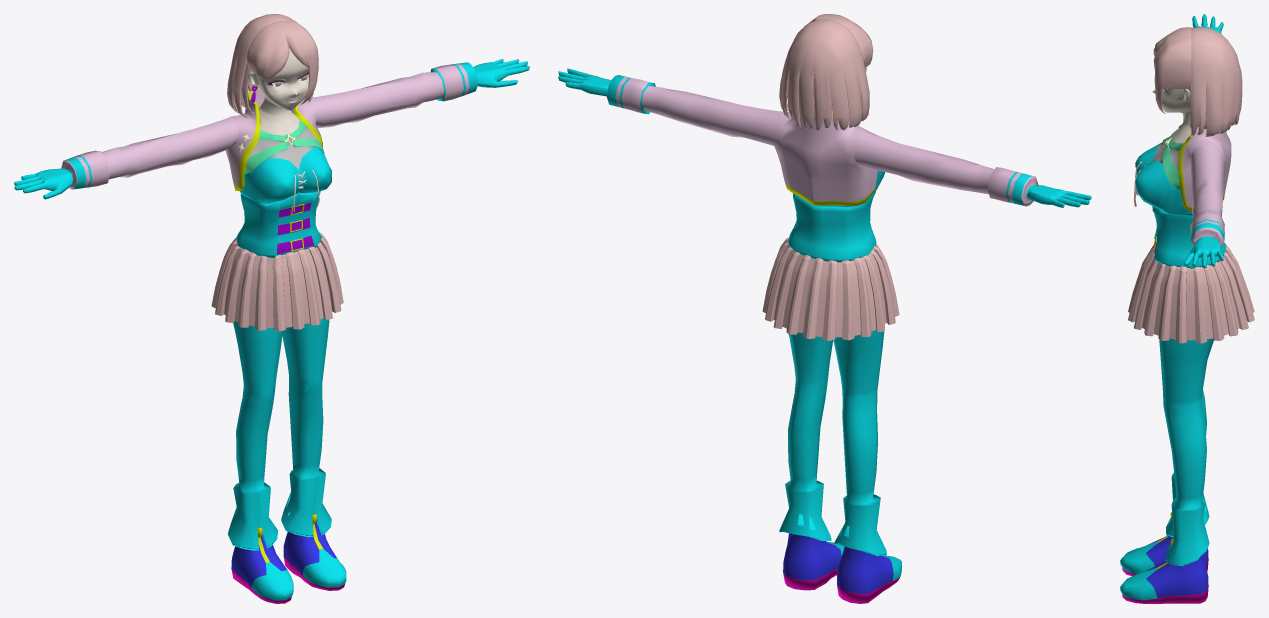
File: TEST_BELA2 3.fbx
3 views of the same model, side by side, from view 1: azimuth 30°, elevation 25°; view 2: azimuth 150°, elevation 25°; view 3: azimuth 270°, elevation 25° (orthographic). The views are drawn at different scales.
Parts seen in each view (by area): view 1: polySurface9, skirt, polySurface4, polySurface2, forelock, polySurface10, face6, polySurface8, polySurface6, hair3; view 2: polySurface9, skirt, hair3, polySurface4, polySurface2, polySurface8, polySurface6, forelock; view 3: polySurface9, skirt, hair3, polySurface2, forelock, polySurface10, polySurface6, face6, polySurface4.
Part boxes in pixels (<box>): polySurface9: <box>225,87,346,603</box>; skirt: <box>211,232,343,331</box>; polySurface4: <box>14,139,165,199</box>; polySurface2: <box>378,59,529,112</box>; forelock: <box>246,20,318,105</box>; polySurface10: <box>240,146,331,203</box>; face6: <box>248,48,308,135</box>; polySurface8: <box>154,116,238,167</box>; polySurface6: <box>310,84,388,127</box>; hair3: <box>227,14,313,119</box>; polySurface9: <box>773,112,901,603</box>; skirt: <box>762,237,899,340</box>; hair3: <box>779,19,869,131</box>; polySurface4: <box>930,153,1091,207</box>; polySurface2: <box>558,68,707,128</box>; polySurface8: <box>854,131,938,185</box>; polySurface6: <box>698,97,782,145</box>; forelock: <box>804,14,873,66</box>; polySurface9: <box>1120,124,1231,603</box>; skirt: <box>1128,242,1254,343</box>; hair3: <box>1190,27,1242,136</box>; polySurface2: <box>1183,183,1224,268</box>; forelock: <box>1153,27,1191,113</box>; polySurface10: <box>1135,142,1192,212</box>; polySurface6: <box>1190,143,1224,199</box>; face6: <box>1152,88,1191,143</box>; polySurface4: <box>1192,14,1223,33</box>.
Bounding box in the file's own units: 148 × 152 × 33.53.
15 materials, 2 textured.
